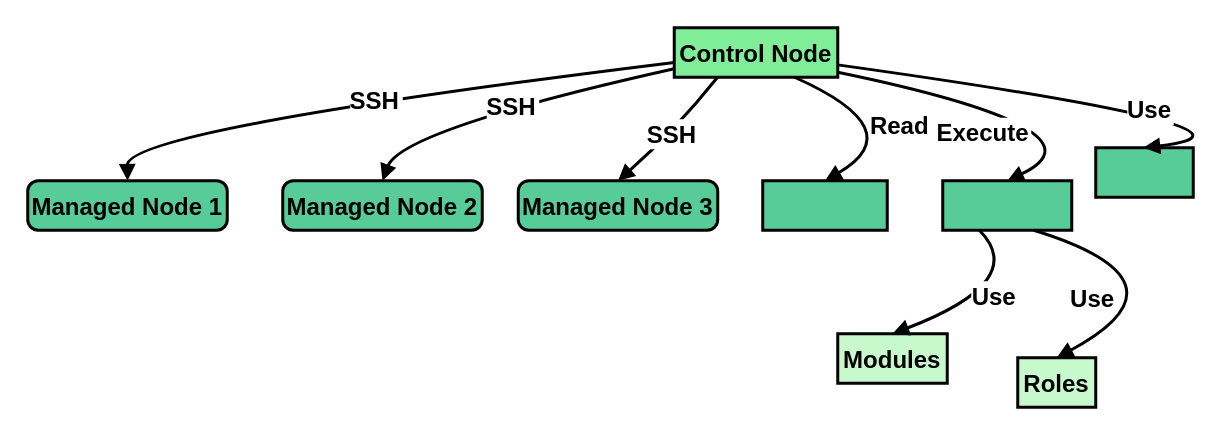
The diagram is 1220 pixels wide and 434 high, and some of its shapes have lost their labels. Here are the shapes that lost their labels. From the top down, the centre of each, then its label:
At (1144,172): "Plugins".
At (824,204): "Inventory".
At (1006,204): "Playbooks".
